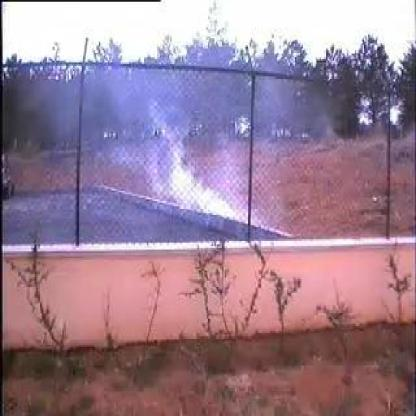-: (116, 80, 247, 225)
